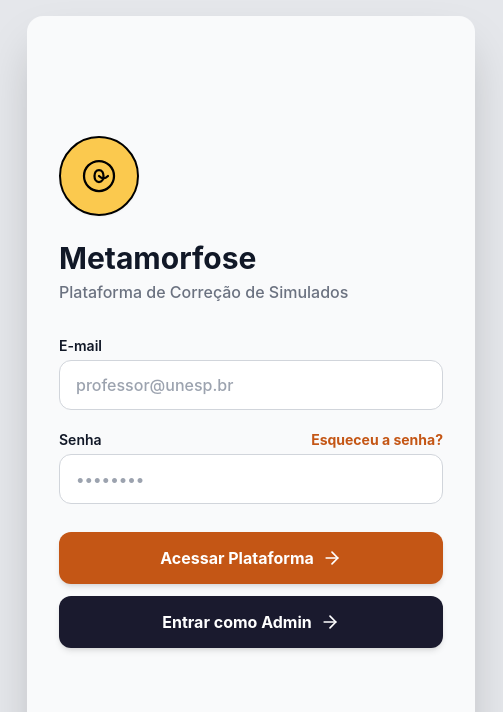
Test: App › renderiza a tela de login e permite acessar o painel admin
Expected: the heading "Metamorfose" is shown, x1=59 y1=240 x2=256 y2=276
Expected: the text "Plataforma de Correção de Simulados" is shown, x1=59 y1=282 x2=348 y2=302
Click the button "Entrar como Admin" at (251, 622), box x1=59 y1=596 x2=443 y2=648
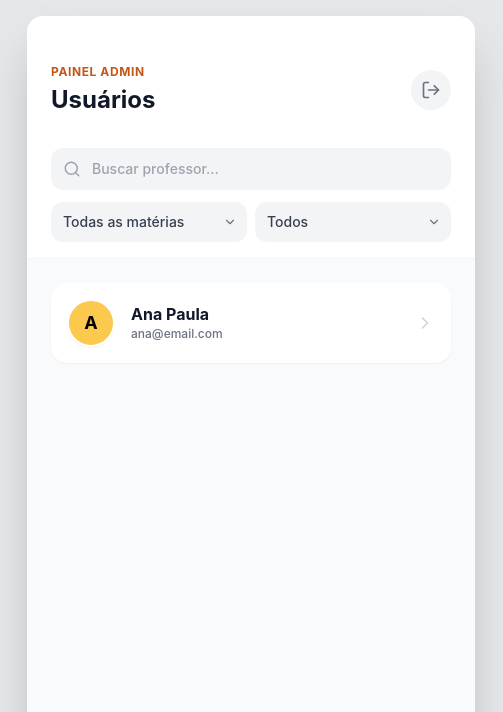
Expected: the heading "Usuários" is shown, x1=51 y1=84 x2=155 y2=116
